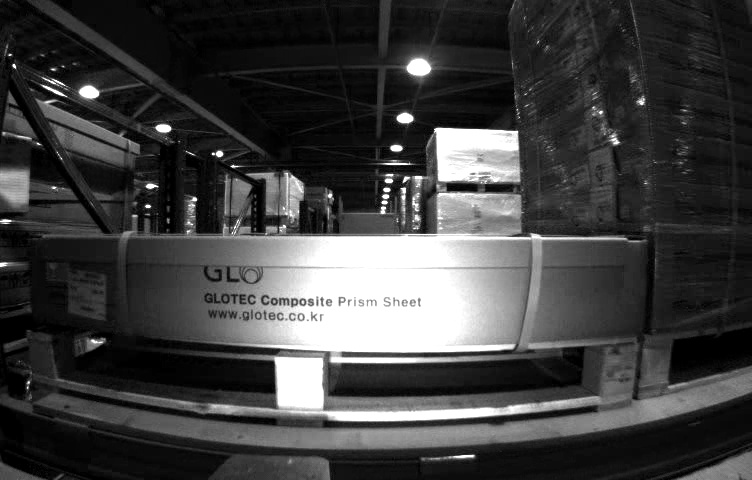True Barcode: (67, 269, 103, 326)
